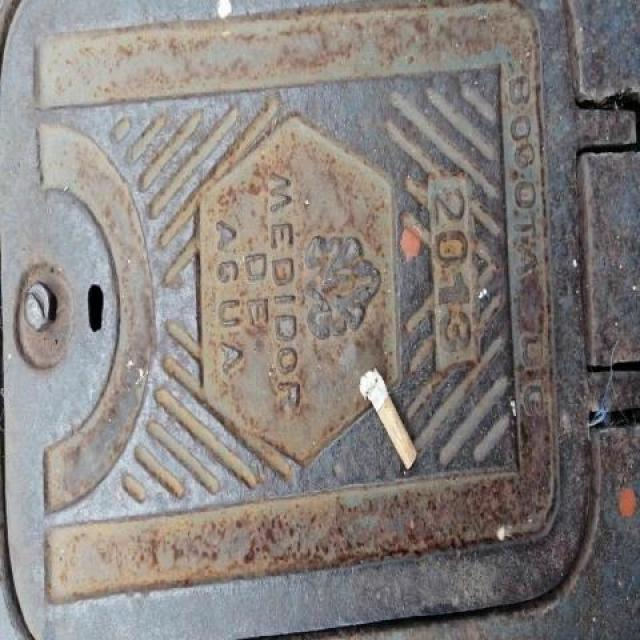non-organic waste: (356, 365, 424, 476)
